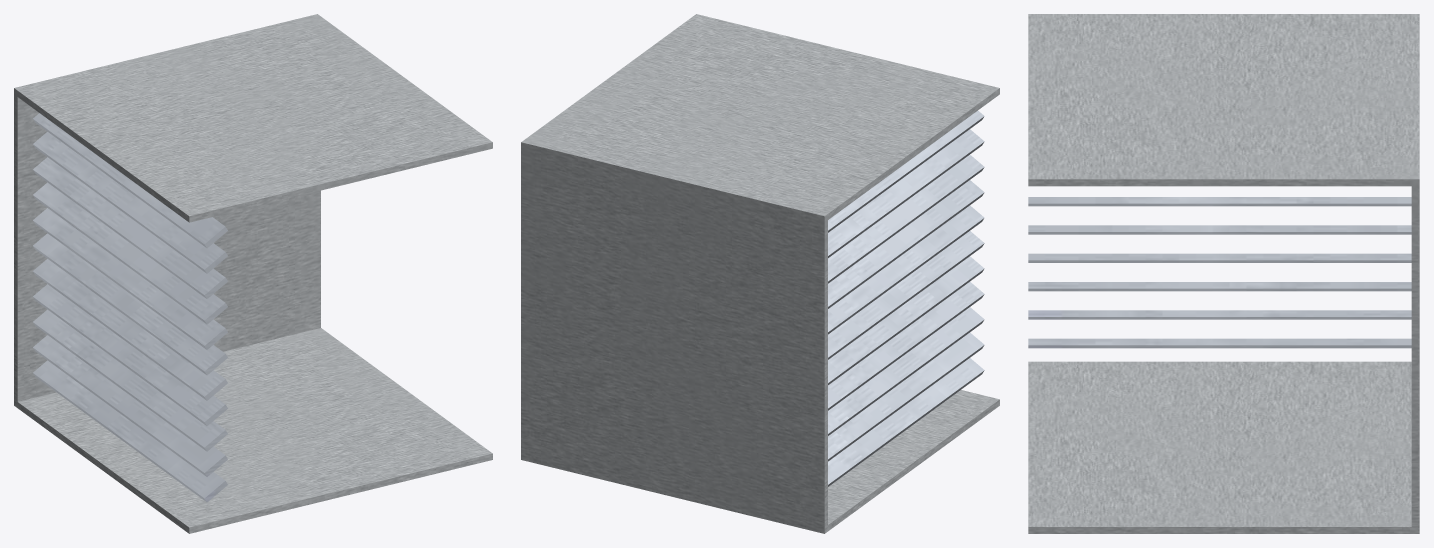
The model's file is Duct_EW_Dpr_1m.gltf.
3 views of the same model, side by side, from view 1: azimuth 30°, elevation 25°; view 2: azimuth 150°, elevation 25°; view 3: azimuth 270°, elevation 25° (orthographic). The views are drawn at different scales.
Visible parts, largest first — view 1: root; view 2: root; view 3: root.
Part boxes in pixels (x1=…): root: x1=14, y1=14, x2=492, y2=533; root: x1=521, y1=14, x2=999, y2=533; root: x1=1028, y1=14, x2=1419, y2=533.
Size of the model in its own units: 1 by 1 by 1.
2 materials, 2 textured.
